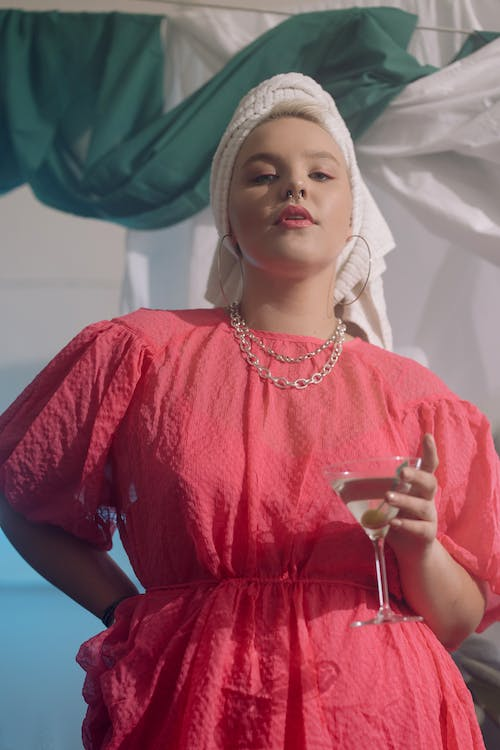alcohol: (325, 454, 424, 628)
